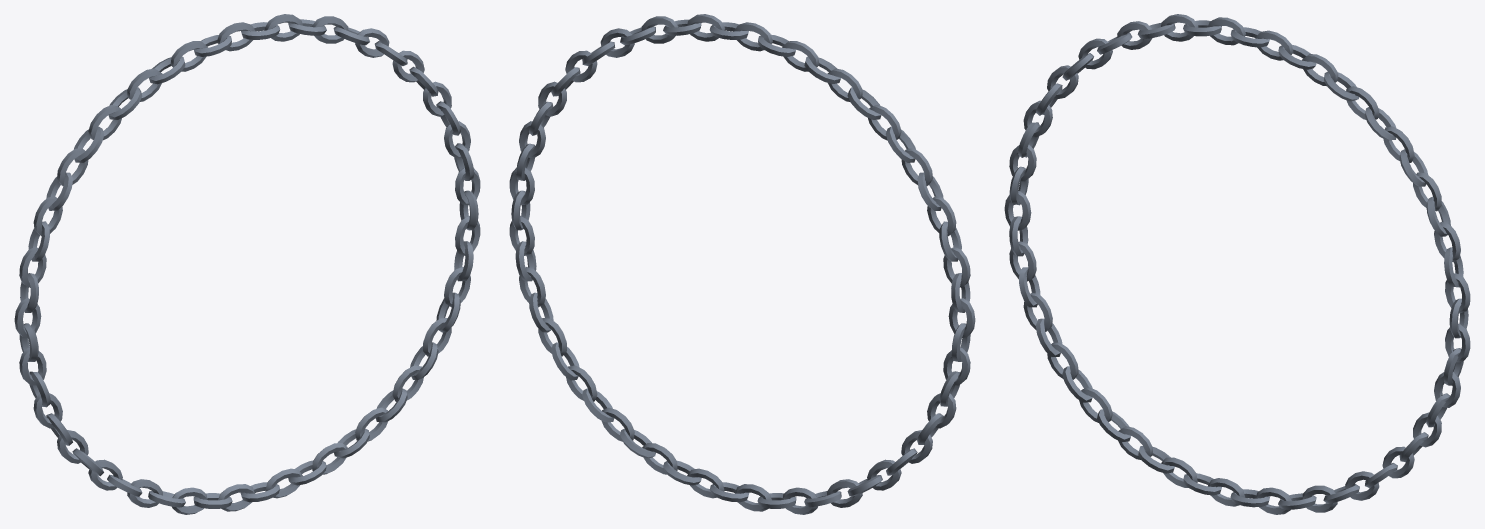
Rendered from grimoire_chain.glb.
3 renders of one model, left to right at view 1: azimuth 30°, elevation 25°; view 2: azimuth 150°, elevation 25°; view 3: azimuth 330°, elevation 25°, orthographic.
Visible parts, largest first — view 1: grimoire_chain; view 2: grimoire_chain; view 3: grimoire_chain.
Part boxes in pixels (box(x1,y1,x2,y2)): grimoire_chain: box(14, 14, 480, 514); grimoire_chain: box(509, 14, 975, 514); grimoire_chain: box(1004, 14, 1470, 514).
Size of the model in its own units: 1.31 by 1.31 by 0.072.
